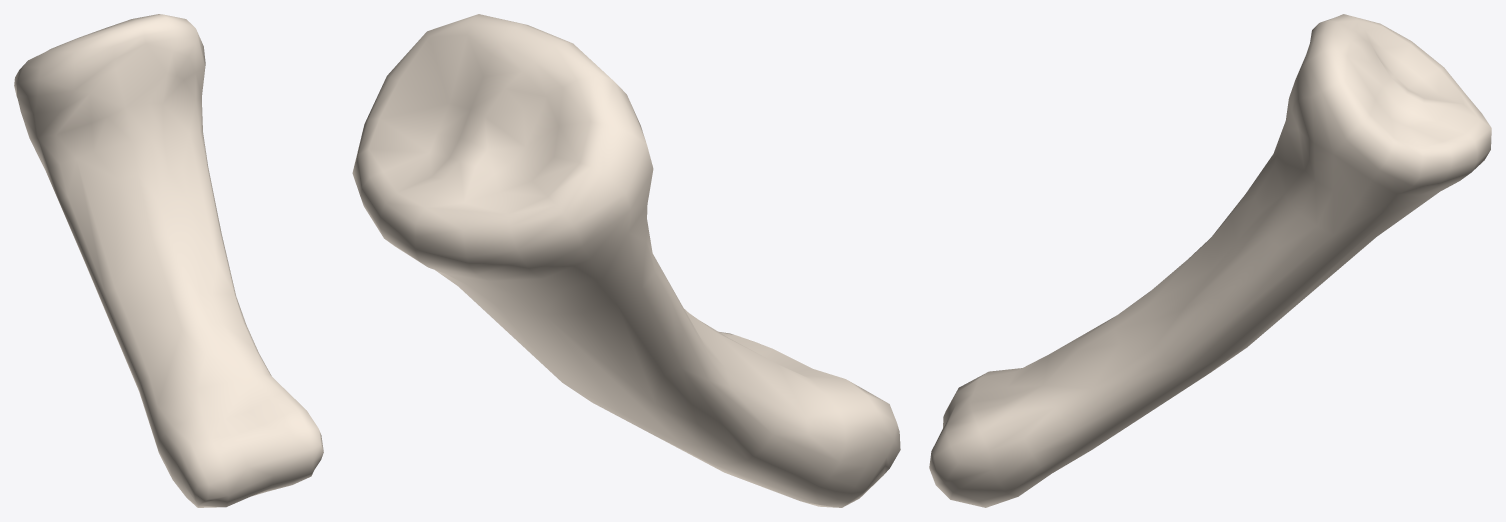
The model's file is right_digit_4_middle.glb.
3 renders of one model, left to right at view 1: azimuth 30°, elevation 25°; view 2: azimuth 150°, elevation 25°; view 3: azimuth 270°, elevation 25°, orthographic. The views are drawn at different scales.
Parts seen in each view (by area): view 1: Middle phalanx of 4th finger.r; view 2: Middle phalanx of 4th finger.r; view 3: Middle phalanx of 4th finger.r.
Part boxes in pixels (left/top/right/bottom): Middle phalanx of 4th finger.r: left=14, top=14, right=323, bottom=507; Middle phalanx of 4th finger.r: left=352, top=14, right=900, bottom=507; Middle phalanx of 4th finger.r: left=929, top=14, right=1491, bottom=507.
Size of the model in its own units: 0.0108 by 0.0231 by 0.0247.
